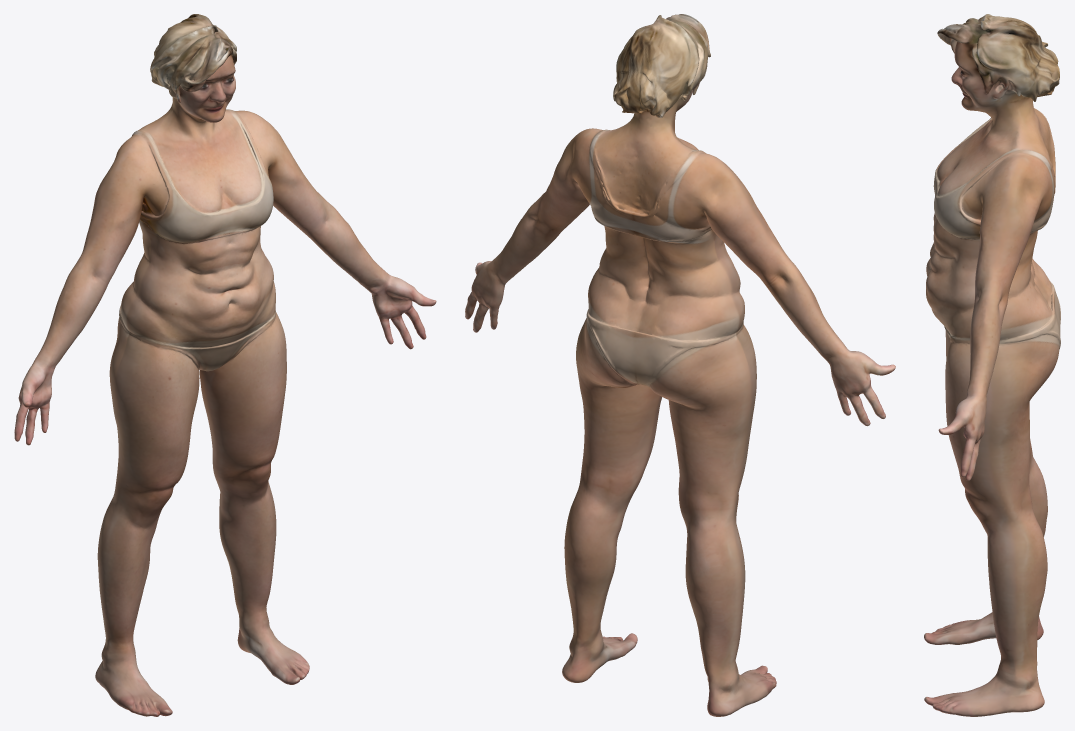
The model's file is Figure_Photo_Textured.glb.
3 renders of one model, left to right at view 1: azimuth 30°, elevation 25°; view 2: azimuth 150°, elevation 25°; view 3: azimuth 270°, elevation 25°, orthographic.
Visible parts, largest first — view 1: world; view 2: world; view 3: world.
Part boxes in pixels (x1,y1,x2,y2): world: (14,14,436,716); world: (465,14,895,716); world: (924,14,1060,716).
Size of the model in its own units: 0.6573 by 0.9947 by 0.1874.
Materials: 1 (1 with a texture image).
